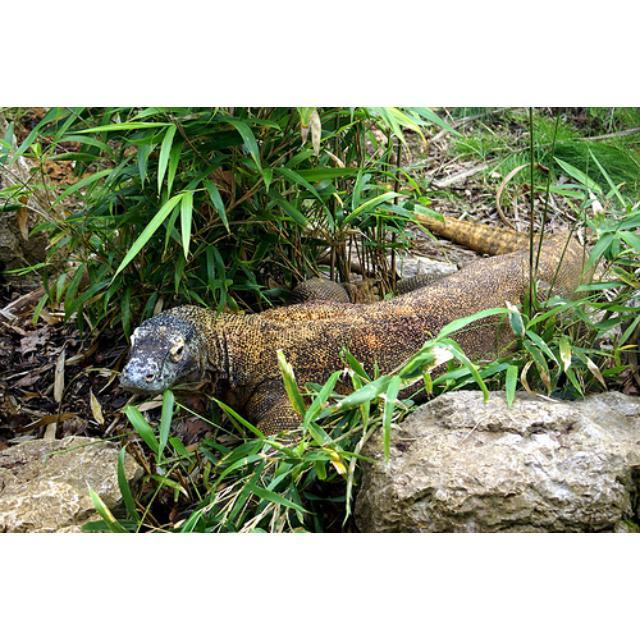KomodoDragon: (114, 196, 597, 475)
